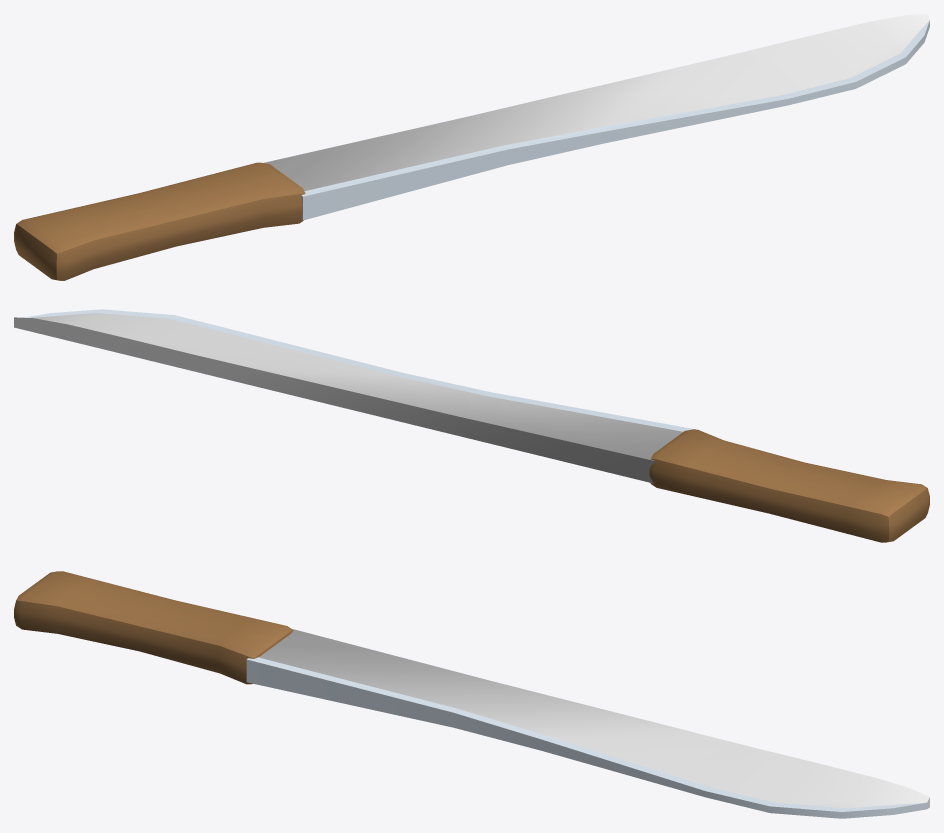
The model's file is FBX_MACHETE.fbx.
3 renders of one model, top to bottom at view 1: azimuth 30°, elevation 25°; view 2: azimuth 150°, elevation 25°; view 3: azimuth 330°, elevation 25°, orthographic. The views are drawn at different scales.
Parts seen in each view (by area): view 1: Msh_Machete_Cuchilla, Msh_Machete_mano; view 2: Msh_Machete_Cuchilla, Msh_Machete_mano; view 3: Msh_Machete_Cuchilla, Msh_Machete_mano.
Part boxes in pixels (x1,y1,x2,y2): Msh_Machete_Cuchilla: (264,14,929,220); Msh_Machete_mano: (14,162,305,280); Msh_Machete_Cuchilla: (14,309,694,483); Msh_Machete_mano: (649,429,929,542); Msh_Machete_Cuchilla: (246,629,929,818); Msh_Machete_mano: (14,571,293,684).
Size of the model in its own units: 350 by 13.47 by 32.68.
1 material, 1 textured.
